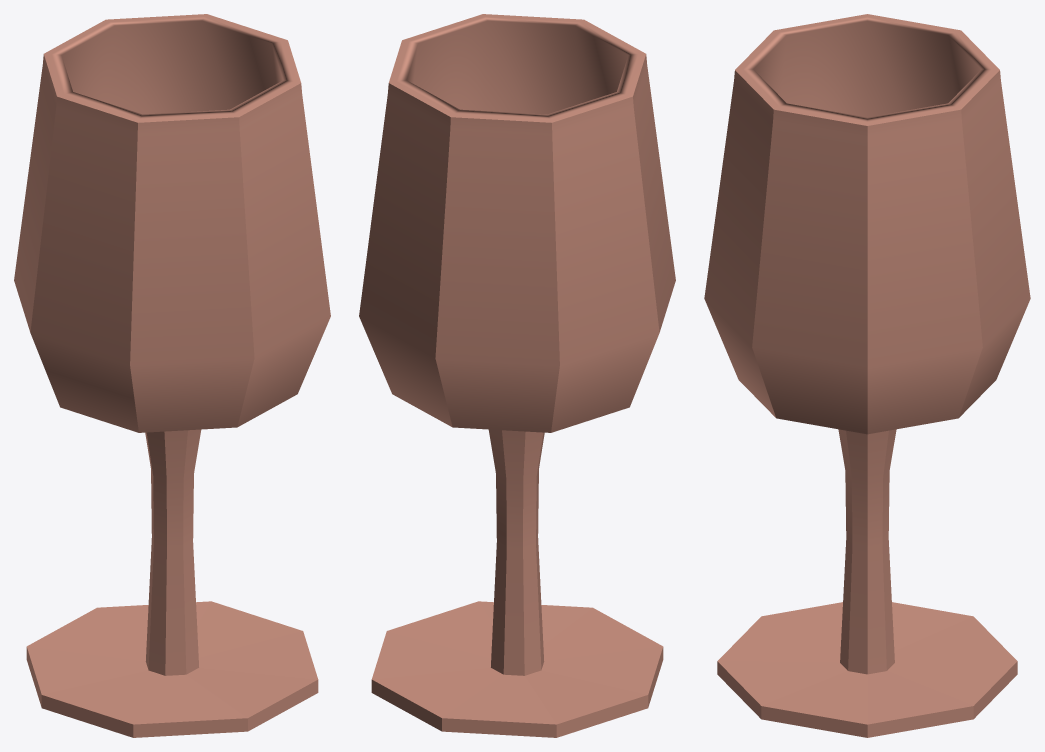
The model's file is Gluttony_Wine.fbx.
3 renders of one model, left to right at view 1: azimuth 30°, elevation 25°; view 2: azimuth 150°, elevation 25°; view 3: azimuth 270°, elevation 25°, orthographic.
Visible parts, largest first — view 1: Wine_glass; view 2: Wine_glass; view 3: Wine_glass.
Part boxes in pixels (x1,y1,x2,y2): Wine_glass: (14, 14, 330, 737); Wine_glass: (359, 14, 675, 737); Wine_glass: (704, 14, 1030, 737).
Bounding box in the file's own units: 0.3359 × 0.6875 × 0.3359.
